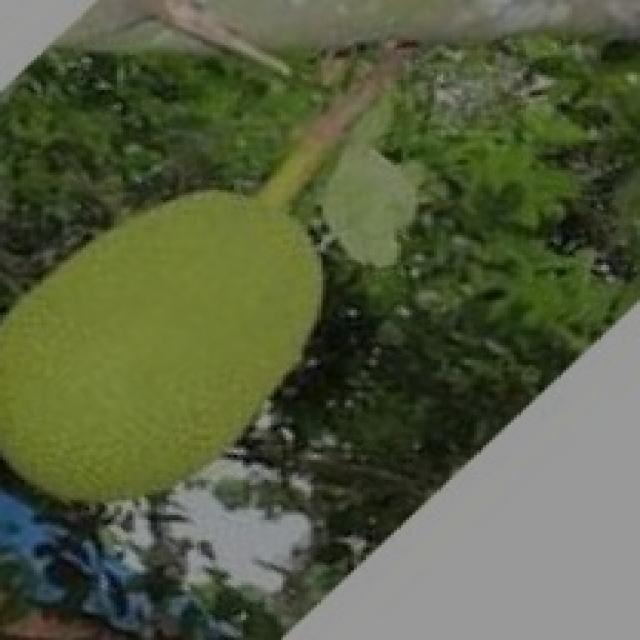Fruit: (0, 155, 369, 535)
